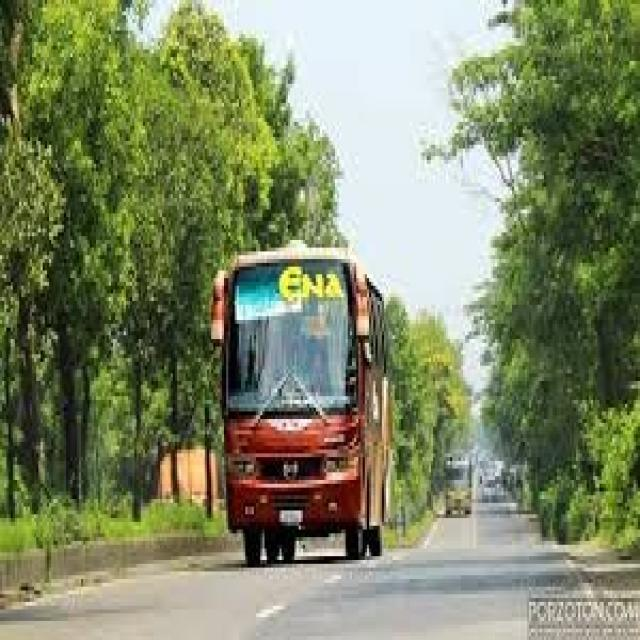bus: (208, 223, 399, 579), (440, 437, 482, 538)
